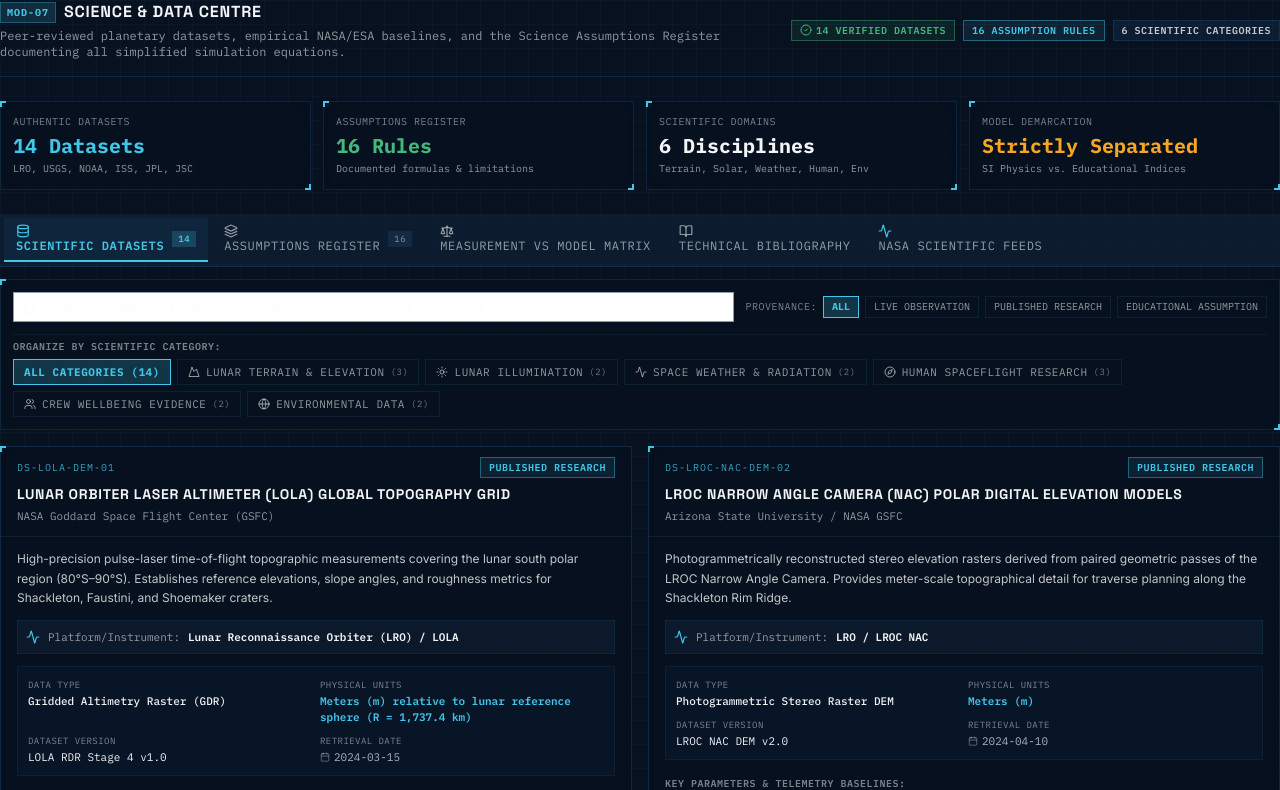
Test: LIGHTTIME Science and Data Centre › ScienceDataView UI Rendering & User Workflows › switches to Assumptions Register tab and displays simulation formulas
Click the tab "Assumptions Register 16".
click(318, 240)  # box [212,218,424,262]
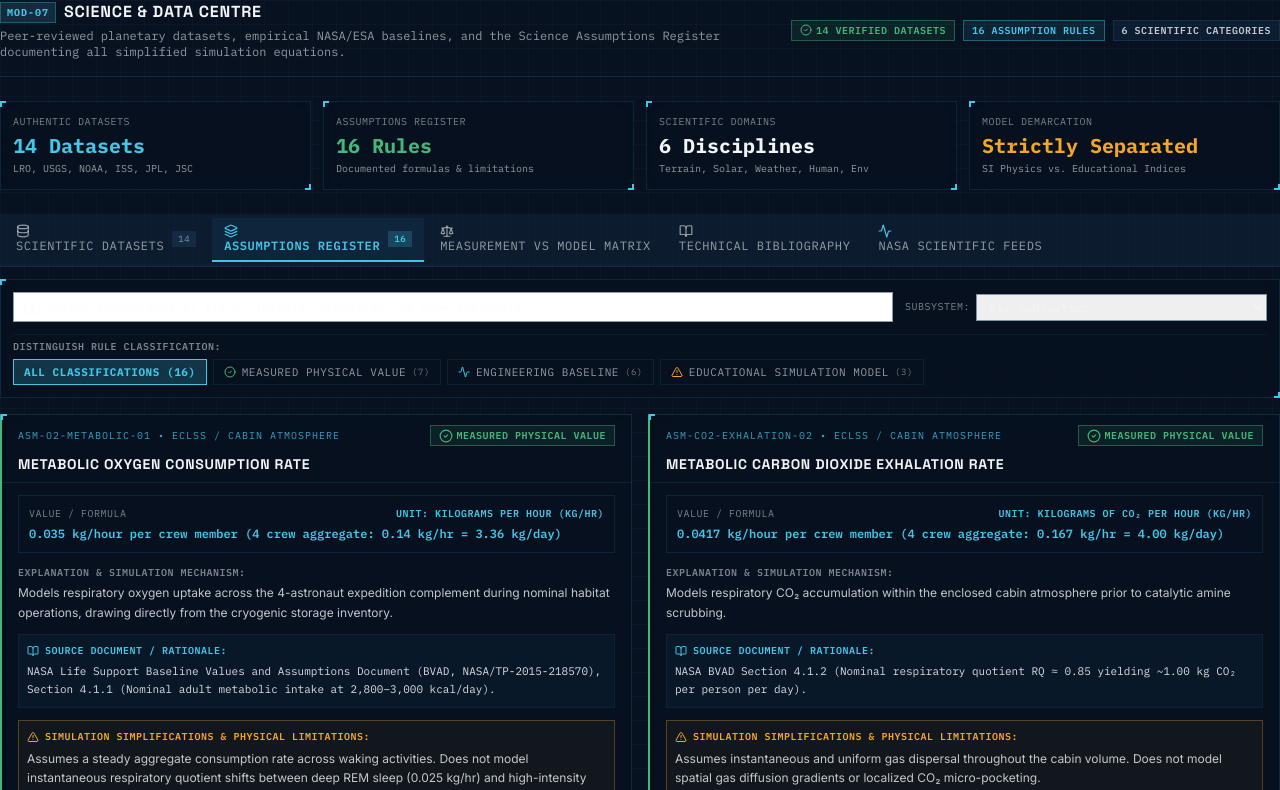
Check: the heading "Metabolic Oxygen Consumption Rate" is shown, box [18,455,310,473]
Check: the text "0.035 kg/hour per crew member" is shown, box [29,526,562,541]
Check: the text "Unit: Kilograms per Hour (kg/hr)" is shown, box [396,506,604,522]
